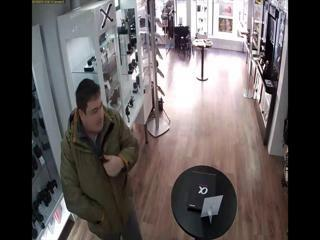Normal: (60, 78, 144, 239)
